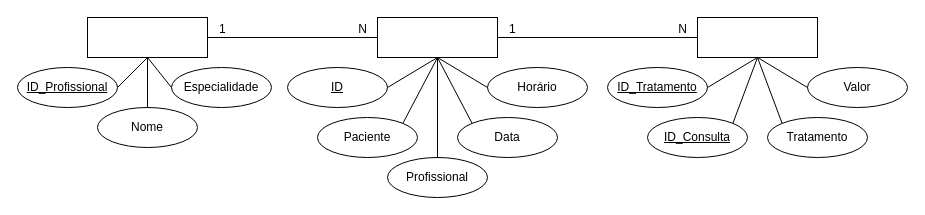
The diagram is 925 pixels wide and 215 high, and some of its shapes have lost their labels. The shapes that lost their labels are listed below. From the top down, each one's centre as x and y in pixels, then its label:
At pixel 147 37: "Profissionais".
At pixel 437 37: "Consultas".
At pixel 757 37: "Tratamentos".
